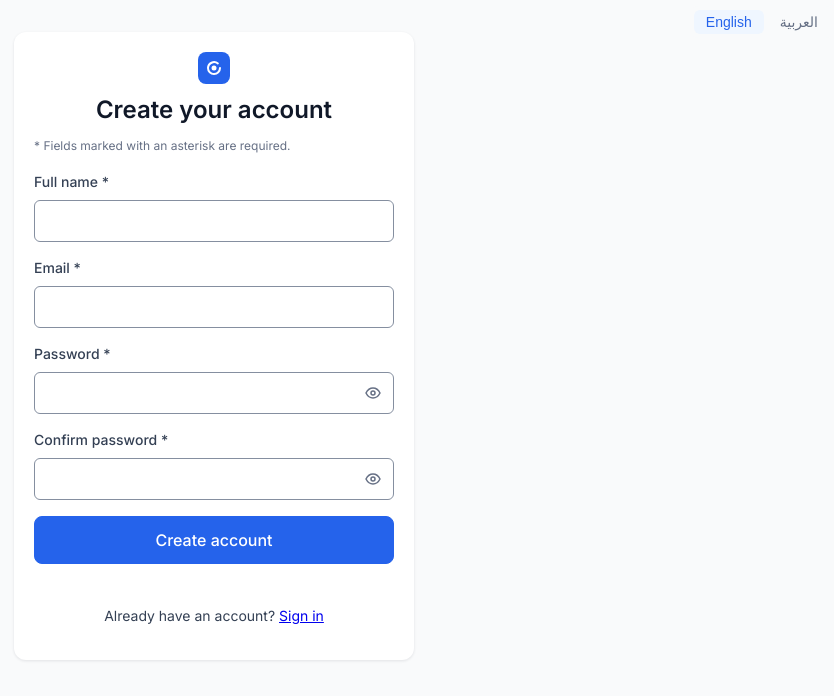
Test: RegisterPage › shows a duplicate-account message on 409
In the field labelled "Full name *": (214, 221) x1=47 y1=201 x2=381 y2=241, type "New Person"
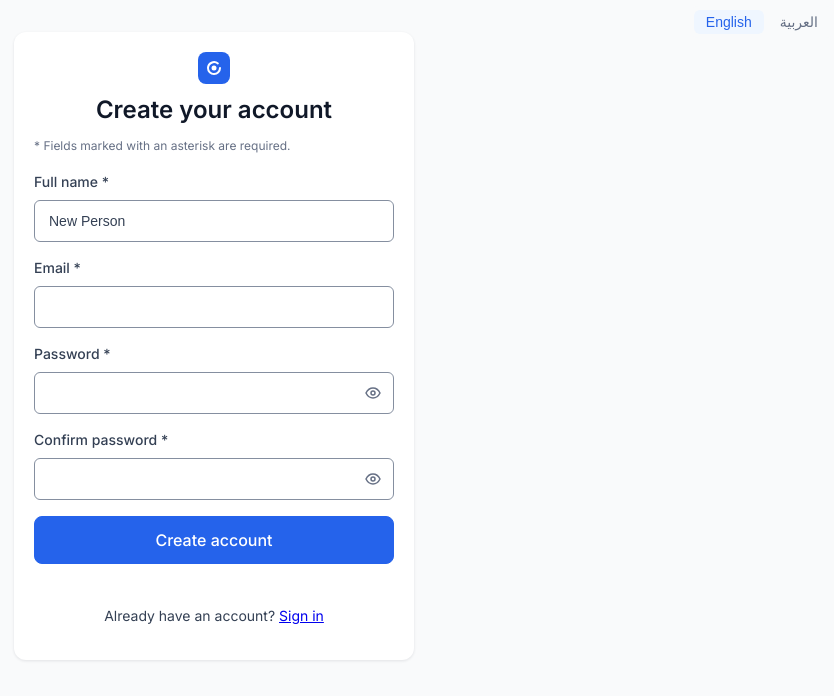
In the field labelled "Email *": (214, 307) x1=47 y1=287 x2=381 y2=327, type "new@example.com"
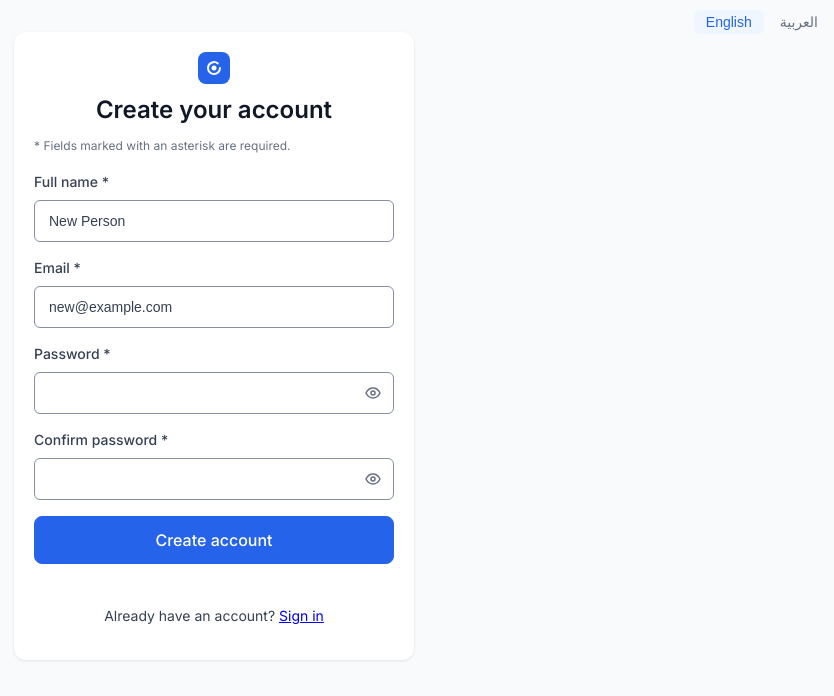
In the password field labelled "Password *": (202, 393) x1=47 y1=373 x2=357 y2=413, type "Passw0rd!"
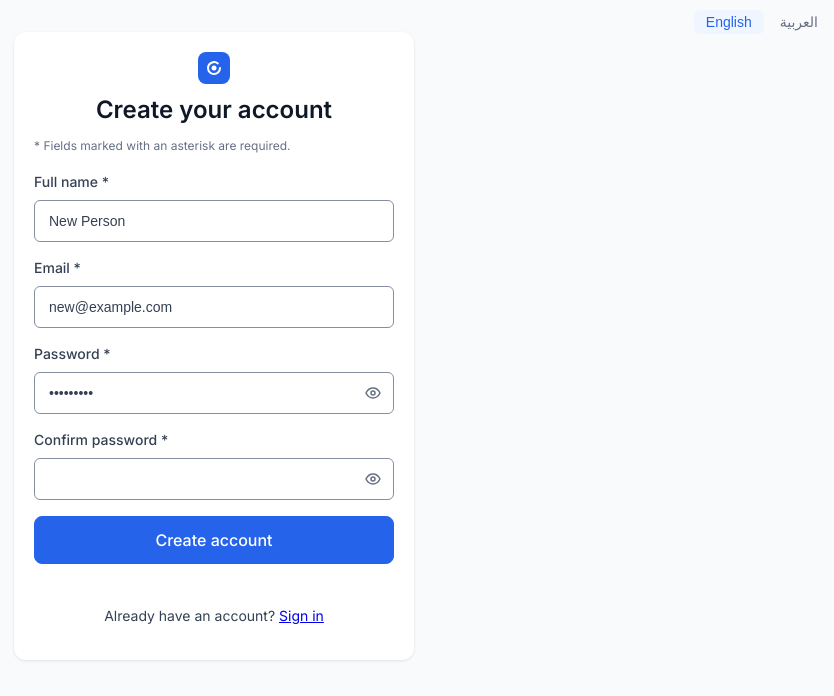
In the password field labelled "Confirm password *": (202, 479) x1=47 y1=459 x2=357 y2=499, type "Passw0rd!"
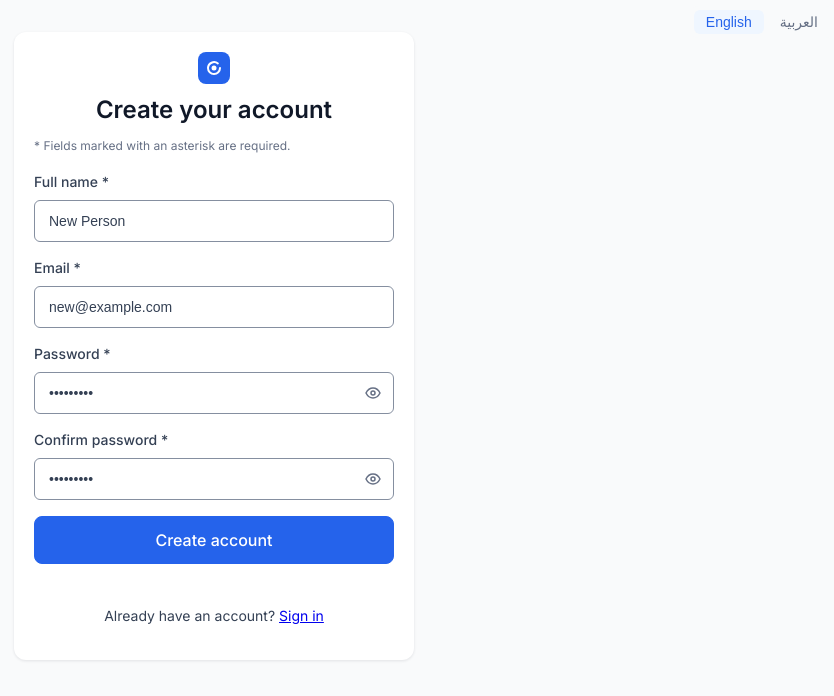
Click the button "Create account": (214, 540) x1=34 y1=516 x2=394 y2=564
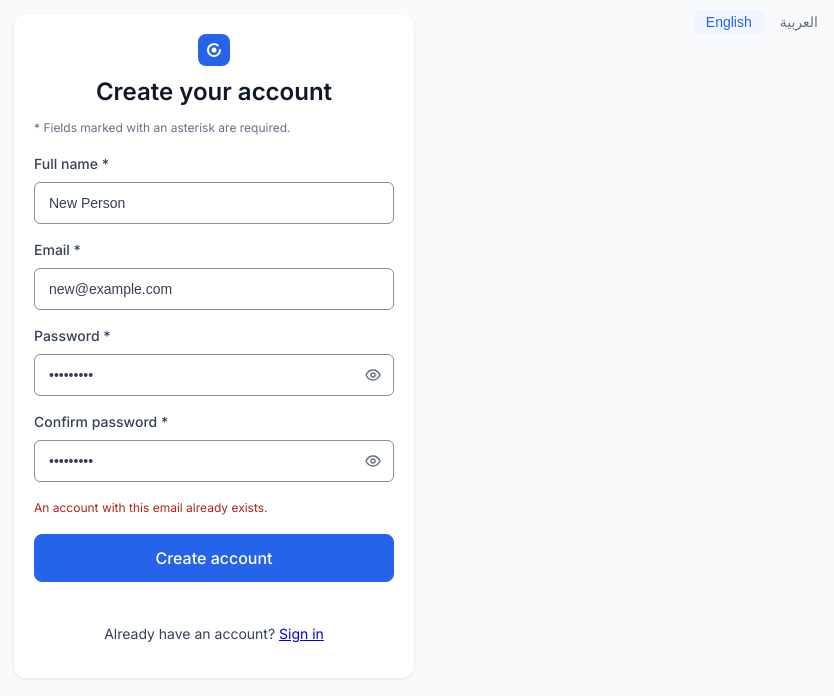
Expected: the text "An account with this email already exists." is shown, x1=34 y1=500 x2=268 y2=515
